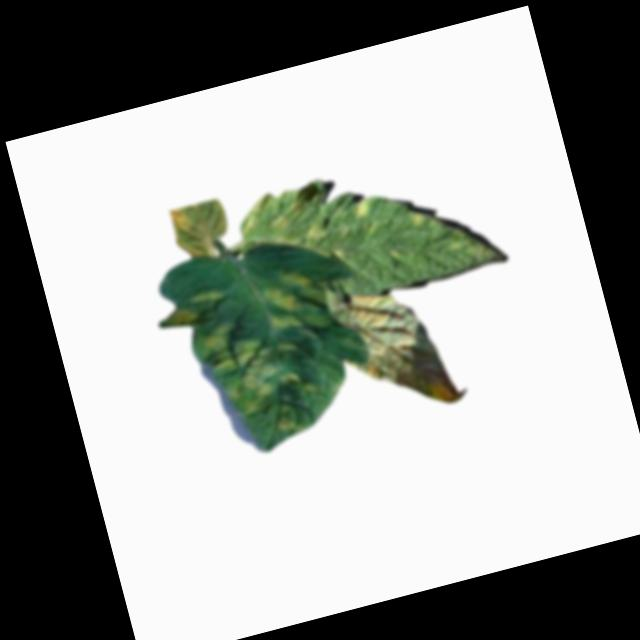Leaf_Mold: (330, 279, 459, 428), (198, 306, 315, 420), (237, 179, 331, 264), (256, 267, 333, 344), (165, 196, 234, 262), (158, 284, 225, 332), (403, 205, 431, 239), (347, 195, 376, 223), (275, 417, 300, 437)
